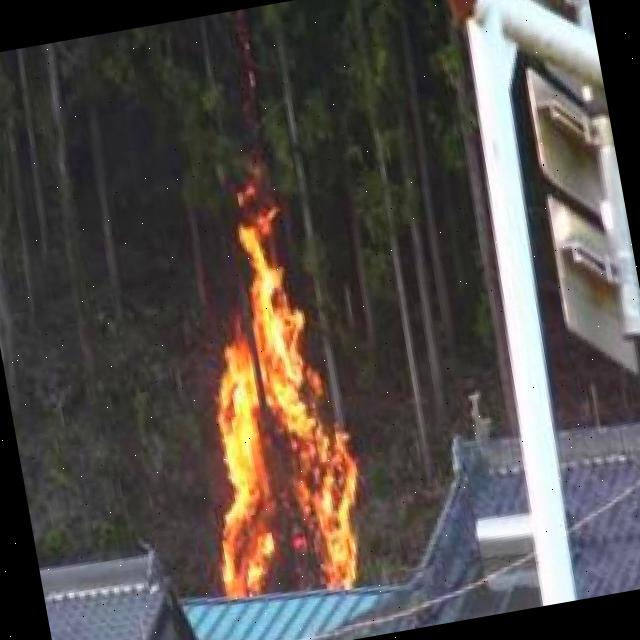fire: (156, 200, 374, 610)
